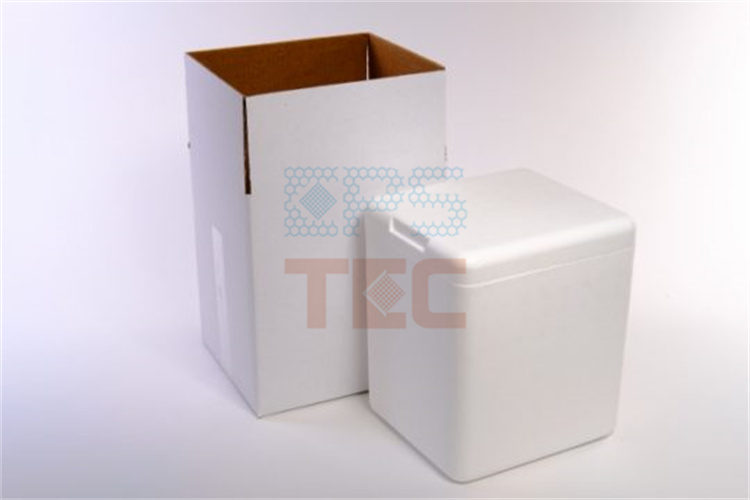泡沫箱: (365, 170, 633, 484)
